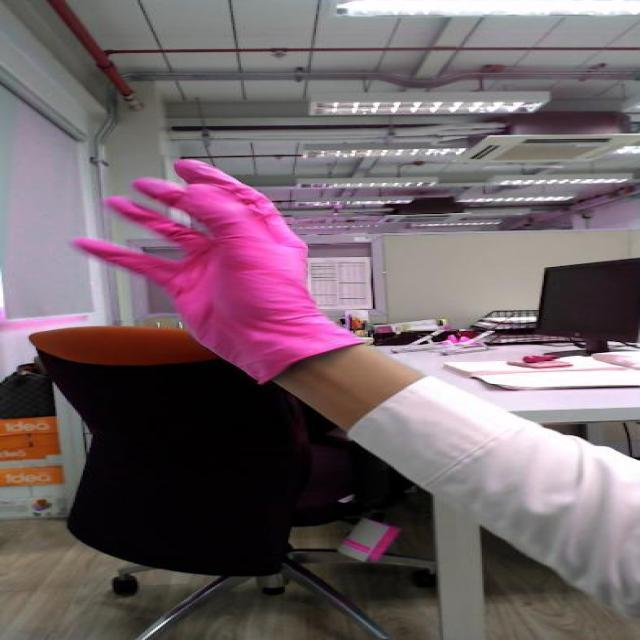gloved_hand: (60, 157, 379, 338)
